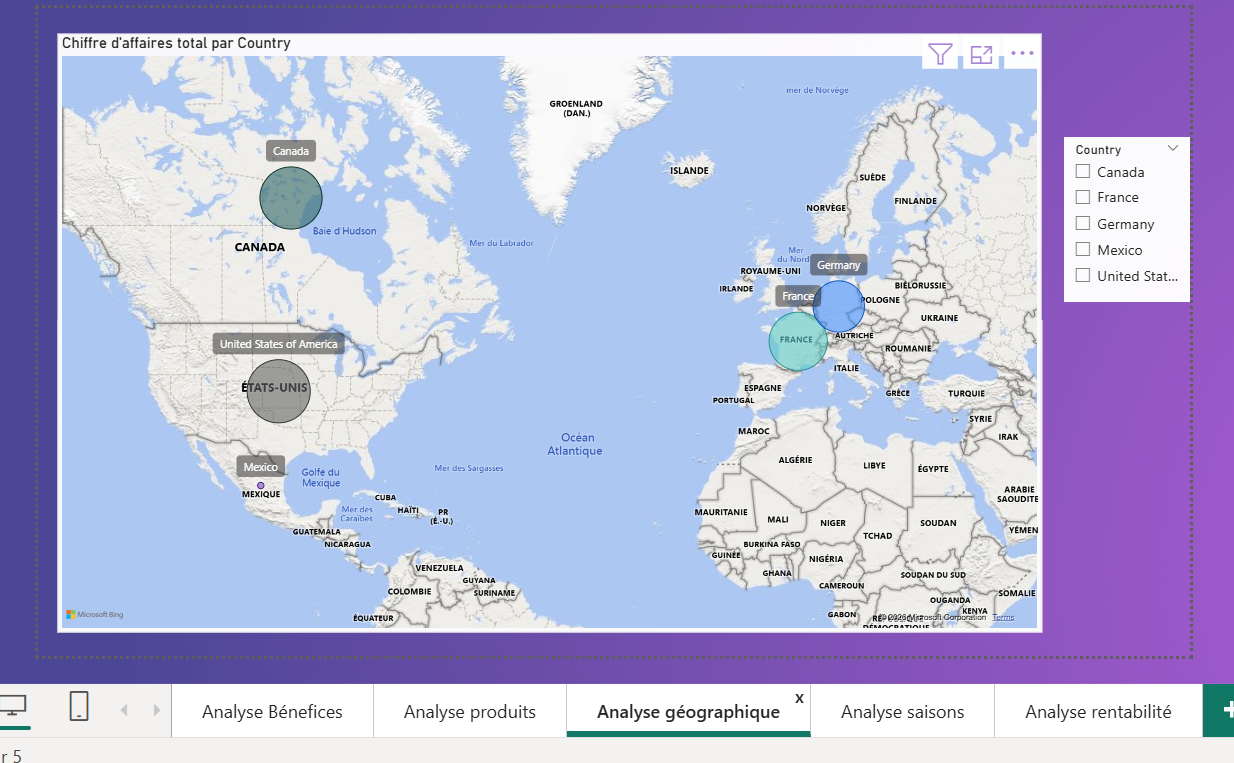

This screenshot's page, from the dashboard's own definition file:
{"tool":"powerbi","page":{"name":"Analyse géographique","canvas":[1280,720],"ordinal":2},"visuals":[{"type":"map","fields":{"Category":["financials.Country"],"Size":["financials.Chiffre d'affaires total"]},"box":[21.7,28.3,1093.3,665],"z":0},{"type":"slicer","fields":{"Values":["financials.Country"]},"box":[1140,143.3,140,183.3],"z":1000}]}

Visuals, with their boxes on the page's 1280x720 design canvas (x1, y1, x2, y2). These are canvas units, not pixel positions in the 1234x763 screenshot, which may show the page scaled, cropped or inside an application window:
map - financials.Country x financials.Chiffre d'affaires total: [left=22, top=28, right=1115, bottom=693]
slicer - financials.Country: [left=1140, top=143, right=1280, bottom=327]
